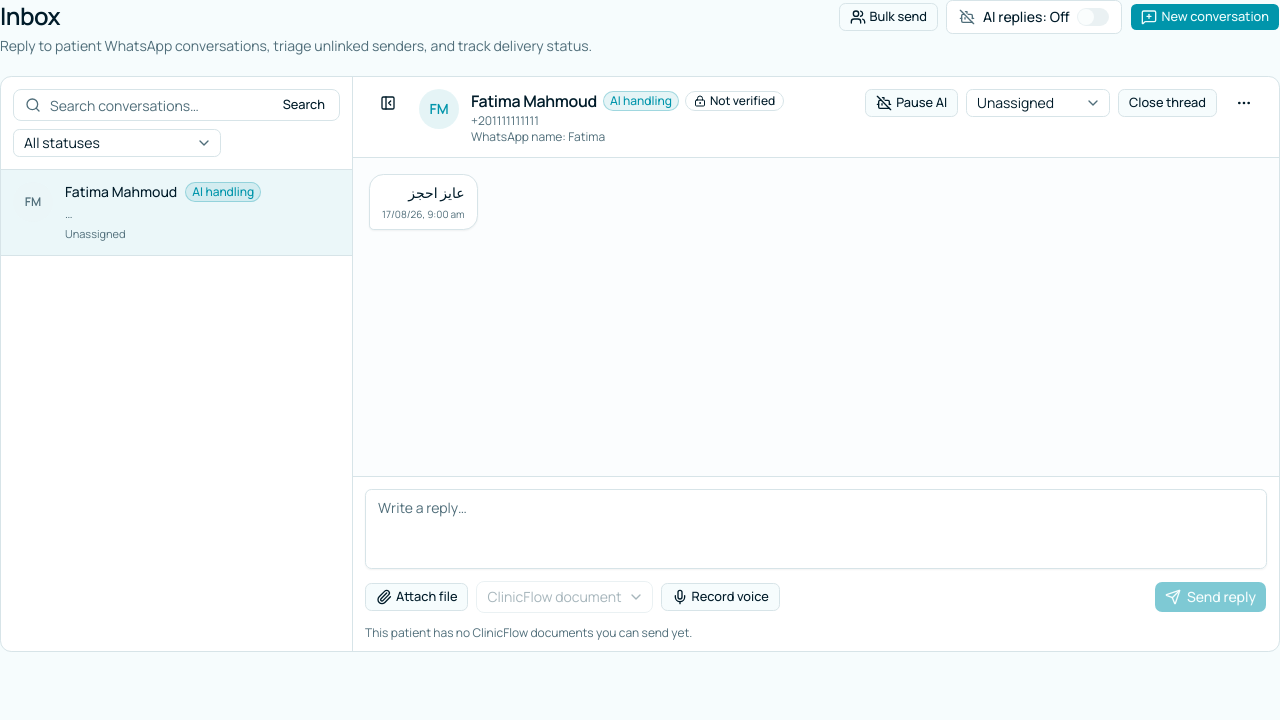
Test: P12 · past appointments from inside the thread › says so, rather than emptying the panel, when the read fails
The width and height of the screenshot is (1280, 720).
Click the button with test id "conversation-more-actions" at (1244, 103), box [1225,89,1263,117]
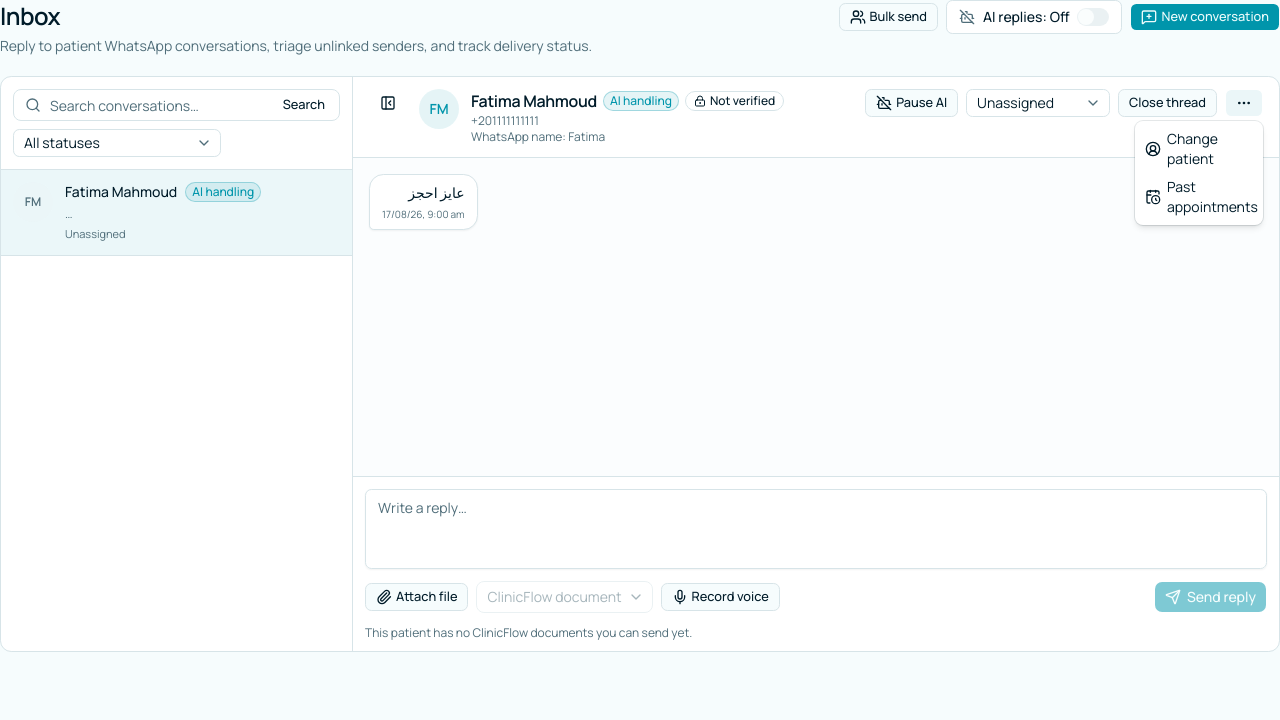
Click the menu item with test id "past-appointments-trigger" at (1199, 197), box [1139,173,1259,221]
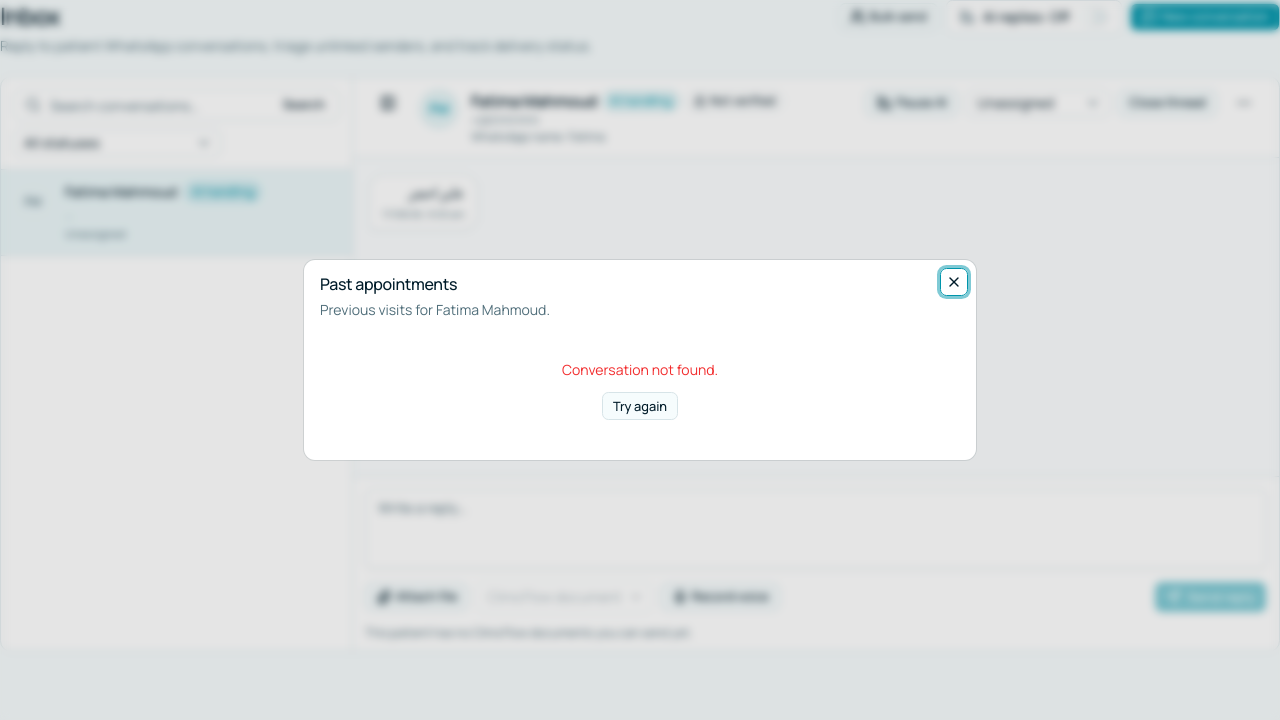
Result: the text "Conversation not found." is shown at [562,360,718,379]
Result: the button "Try again" is shown at [602,392,678,420]
